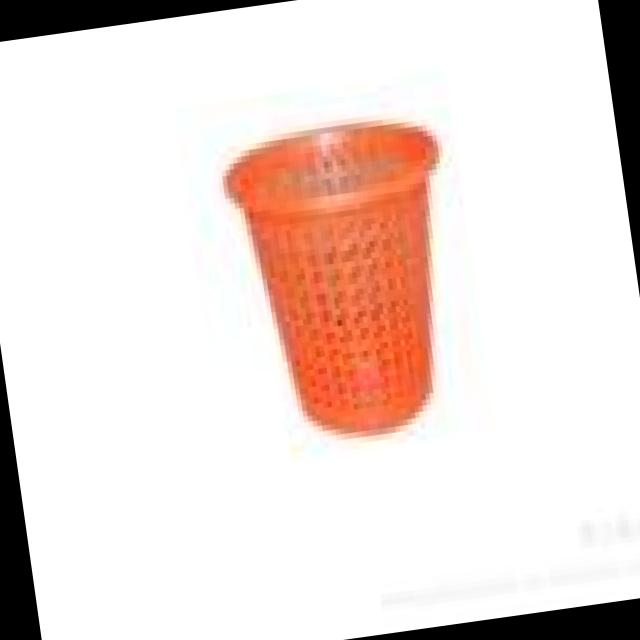dustbin: (212, 102, 486, 455)
